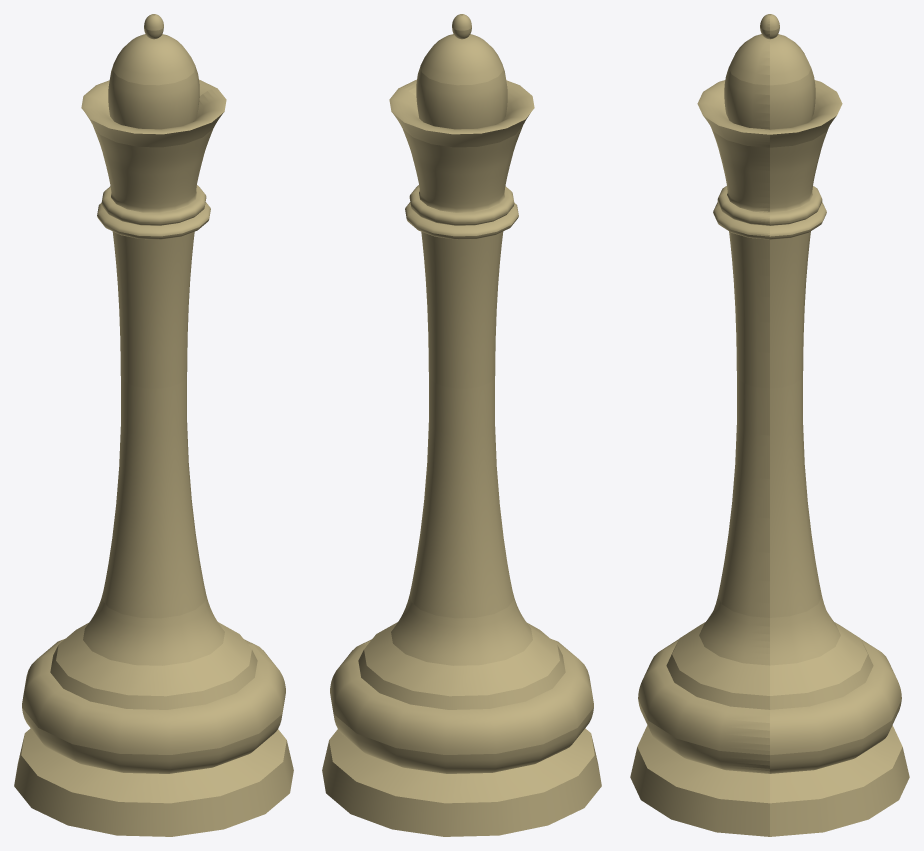
File: Queen_piece.fbx
3 views of the same model, side by side, from view 1: azimuth 30°, elevation 25°; view 2: azimuth 150°, elevation 25°; view 3: azimuth 270°, elevation 25° (orthographic).
Parts seen in each view (by area): view 1: Queen; view 2: Queen; view 3: Queen.
Boxes of the visible parts, x1,y1,x2,y2 form: Queen: (14, 14, 293, 836); Queen: (322, 14, 601, 836); Queen: (630, 14, 909, 836).
Bounding box in the file's own units: 2.59 × 7.7 × 2.56.
